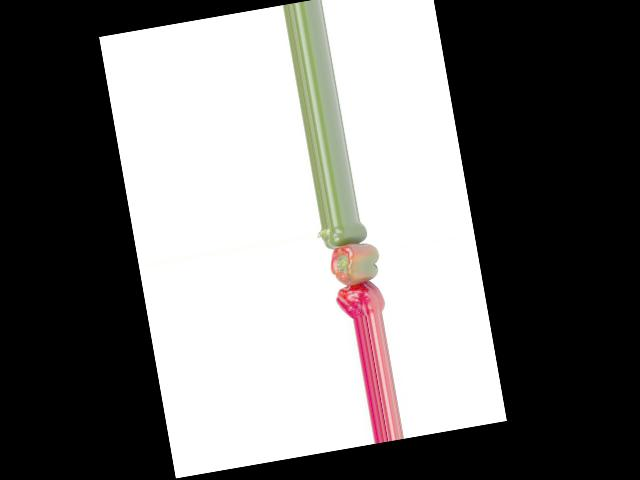bell_pepper: (329, 277, 389, 321)
